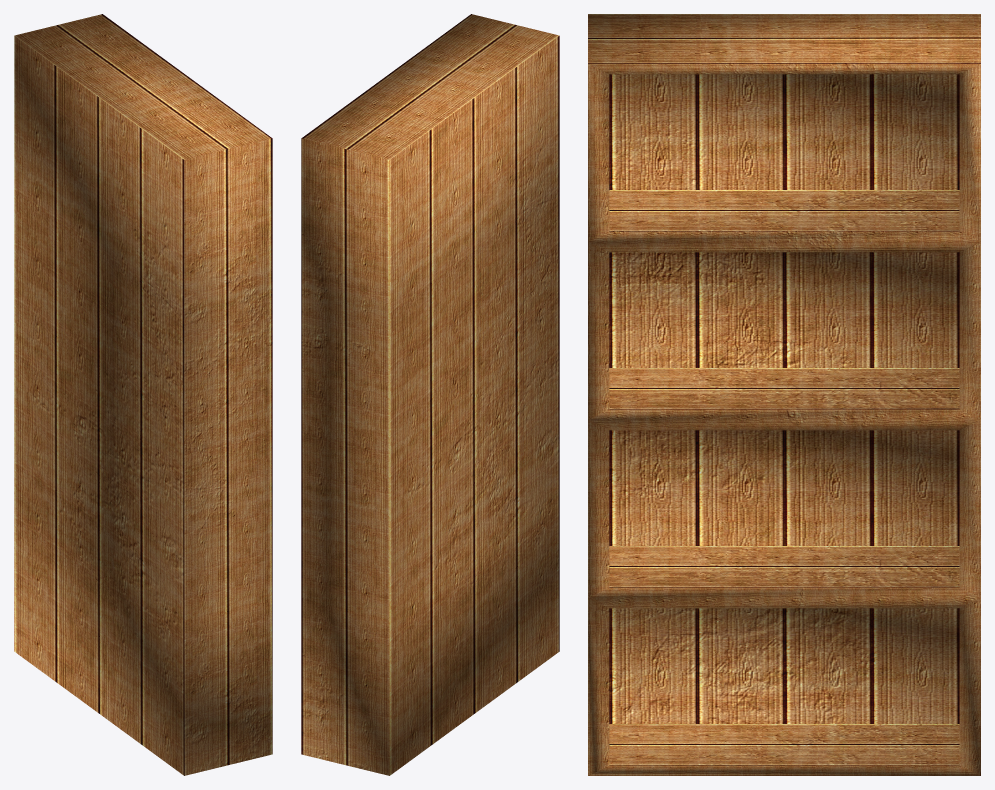
File: shelf.fbx
The picture shows the model from 3 angles, left to right: view 1: azimuth 30°, elevation 25°; view 2: azimuth 150°, elevation 25°; view 3: azimuth 270°, elevation 25°; orthographic projection. The views are drawn at different scales.
Parts seen in each view (by area): view 1: shelf; view 2: shelf; view 3: shelf.
Part boxes in pixels (bbox=[...]): shelf: bbox=[14, 14, 272, 775]; shelf: bbox=[301, 14, 559, 775]; shelf: bbox=[588, 14, 980, 775].
Size of the model in its own units: 0.6 by 4 by 2.
